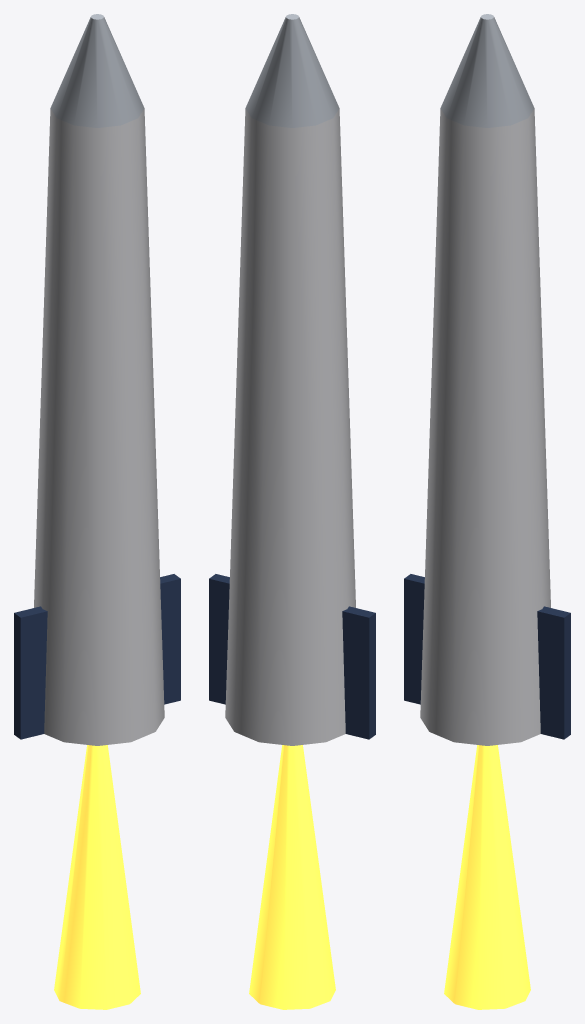
File: launch_rocket.glb
3 views of the same model, side by side, from view 1: azimuth 30°, elevation 25°; view 2: azimuth 150°, elevation 25°; view 3: azimuth 330°, elevation 25° (orthographic).
Visible parts, largest first — view 1: Body, Plume, Nose, Fin2, Fin1; view 2: Body, Plume, Nose, Fin2, Fin1; view 3: Body, Plume, Nose, Fin1, Fin2.
Boxes of the visible parts, x1,y1,x2,y2 form: Body: (34, 108, 164, 745); Plume: (54, 745, 140, 1009); Nose: (50, 14, 144, 127); Fin2: (14, 606, 47, 739); Fin1: (160, 574, 180, 704); Body: (225, 108, 355, 745); Plume: (249, 745, 335, 1009); Nose: (245, 14, 339, 127); Fin2: (342, 606, 375, 739); Fin1: (209, 574, 229, 704); Body: (420, 108, 550, 745); Plume: (444, 745, 530, 1009); Nose: (440, 14, 534, 127); Fin1: (537, 606, 570, 739); Fin2: (404, 574, 424, 704).
Bounding box in the file's own units: 0.55 × 3.2 × 0.4.
